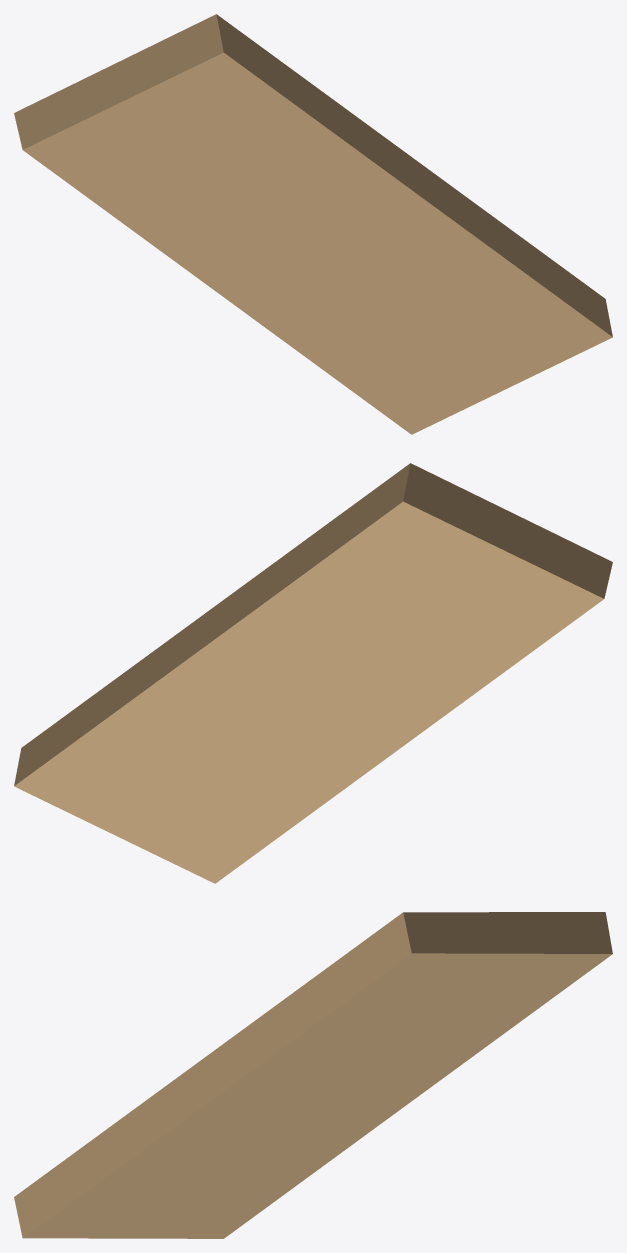
The picture shows the model from 3 angles, top to bottom: view 1: azimuth 30°, elevation 25°; view 2: azimuth 150°, elevation 25°; view 3: azimuth 330°, elevation 25°; orthographic projection.
Parts seen in each view (by area): view 1: 0_1_2_0_1_1_0_0_1_1_3; view 2: 0_1_2_0_1_1_0_0_1_1_3; view 3: 0_1_2_0_1_1_0_0_1_1_3.
Boxes of the visible parts, <box> form: 0_1_2_0_1_1_0_0_1_1_3: <box>14,14,612,434</box>; 0_1_2_0_1_1_0_0_1_1_3: <box>14,463,612,883</box>; 0_1_2_0_1_1_0_0_1_1_3: <box>14,912,612,1238</box>.
Bounding box in the file's own units: 6.54 × 2.64 × 21.
